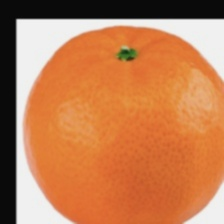orange: (29, 24, 221, 184)
